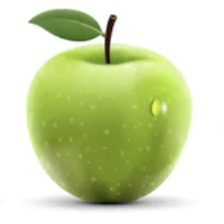apple: (19, 35, 202, 181)
